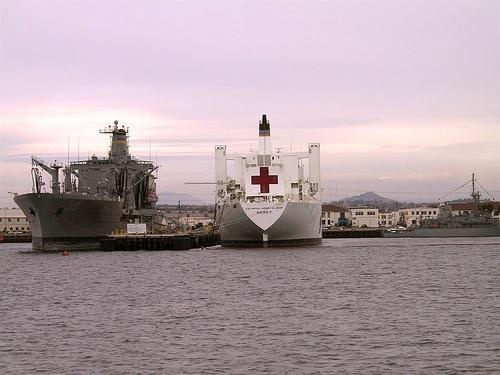boat: (13, 124, 157, 249), (215, 114, 326, 248), (380, 192, 500, 238)
